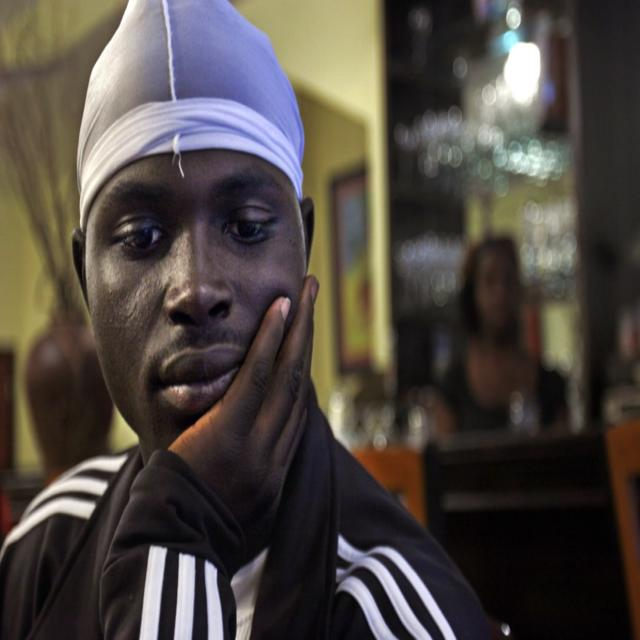sem_oculos: (71, 166, 311, 272)
